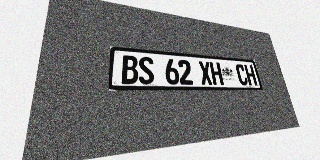2: (177, 59, 193, 85)
6: (164, 58, 180, 85)
B: (121, 55, 138, 84)
C: (235, 64, 249, 85)
H: (209, 62, 224, 85), (244, 65, 257, 85)
S: (138, 56, 155, 84)
X: (198, 61, 213, 85)
